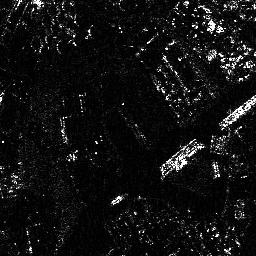ship: (160, 136, 198, 178), (111, 191, 128, 204)
